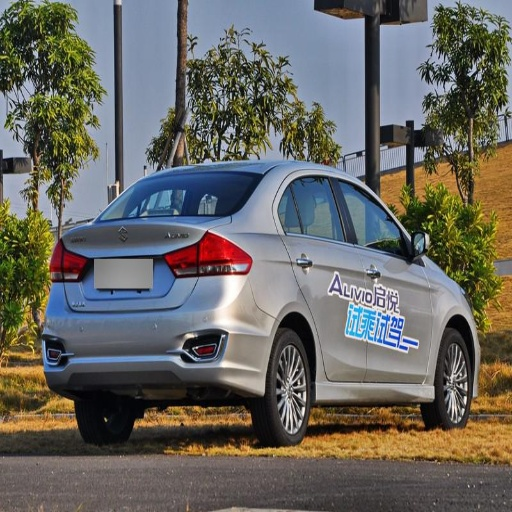back_bumper: (38, 275, 277, 394)
back_right_door: (276, 172, 363, 382)
tailgate: (64, 219, 198, 306)
trunk: (165, 224, 209, 307)
